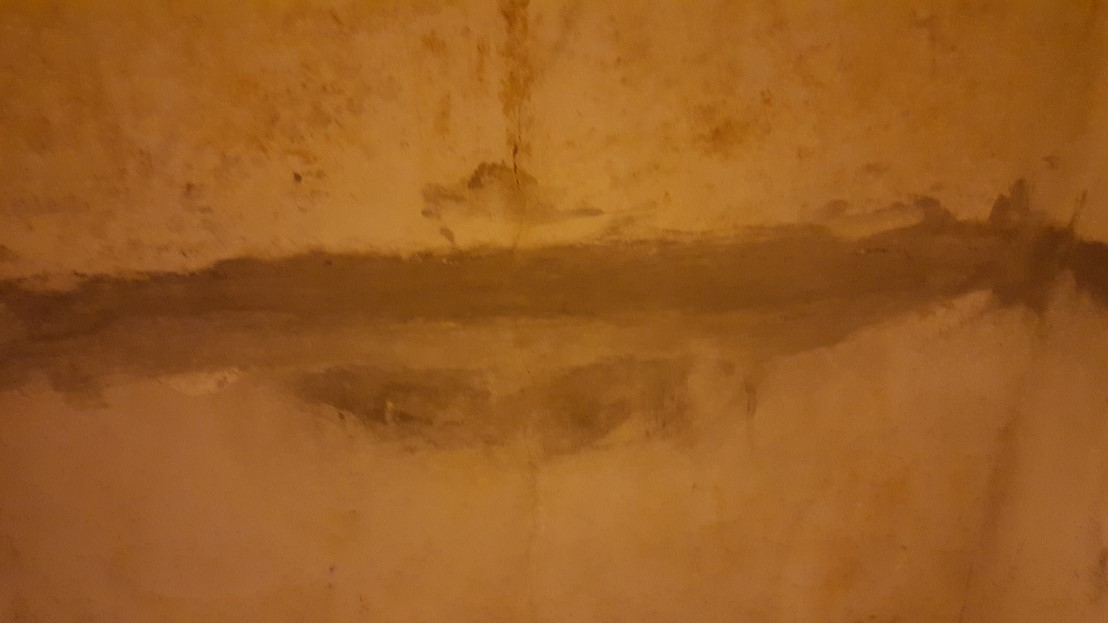Crack: (487, 0, 554, 295)
